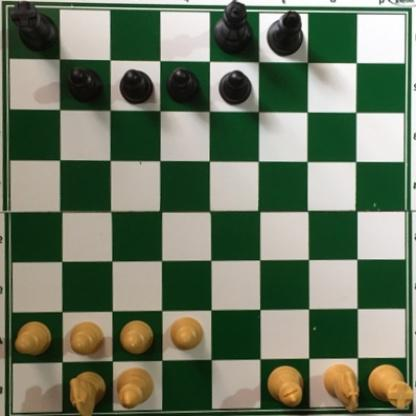black-bishop: (266, 9, 308, 57)
black-pawn: (64, 66, 106, 104), (165, 66, 200, 106), (217, 69, 253, 105), (119, 70, 153, 105)
black-queen: (212, 1, 255, 57)
black-rook: (6, 1, 57, 54)
white-bishop: (266, 362, 304, 409), (115, 366, 155, 410)
white-knight: (321, 361, 362, 415), (67, 369, 107, 416)
white-pawn: (68, 320, 106, 357), (118, 319, 155, 356), (170, 315, 205, 354), (15, 321, 53, 356)
white-rook: (366, 361, 415, 412)
